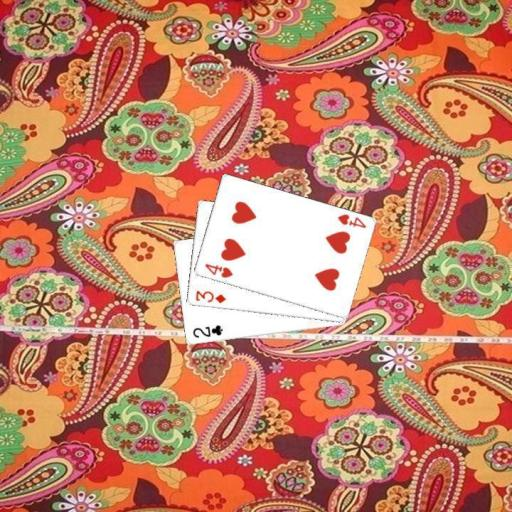card-corner: (201, 260, 234, 280), (189, 322, 224, 340), (334, 211, 367, 230), (192, 288, 228, 304)
